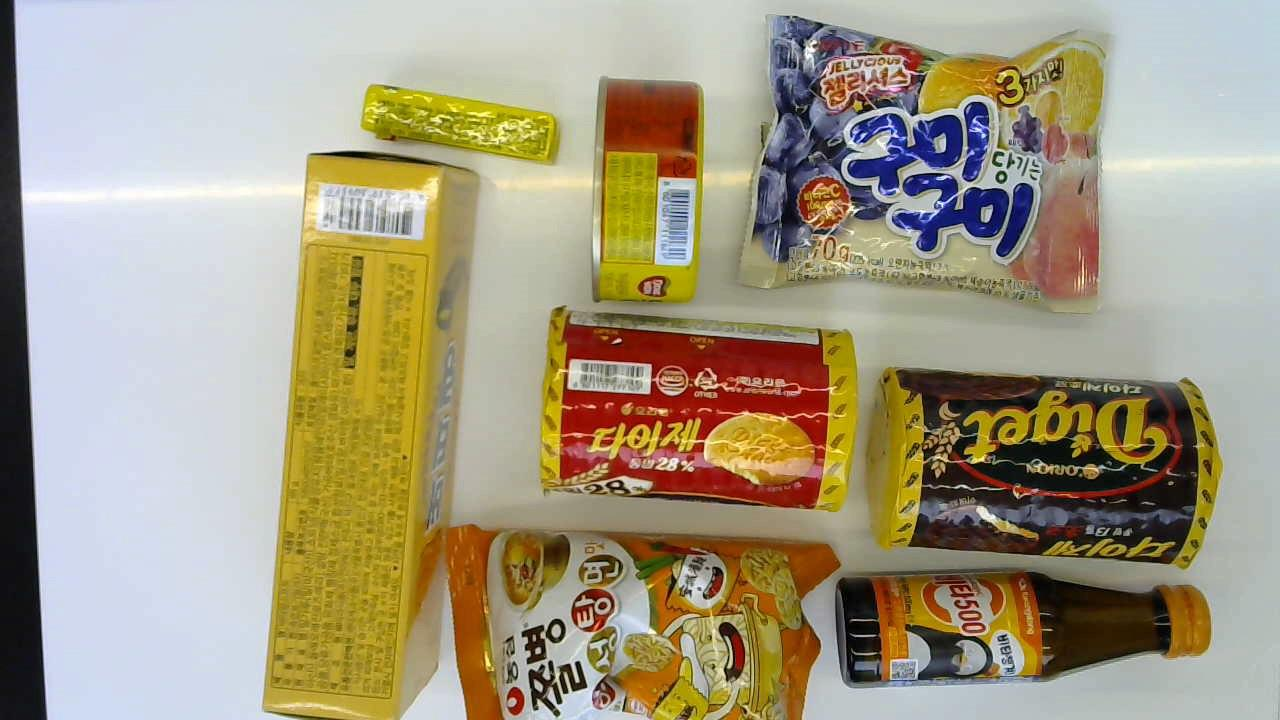buttering: (258, 149, 480, 720)
diget_choco: (866, 365, 1218, 569)
diget_ori: (540, 303, 854, 507)
gumi_gumi: (738, 11, 1101, 314)
jjolbyung_noodle: (446, 528, 836, 716)
juicyfresh: (359, 81, 558, 162)
tuna: (585, 71, 701, 305)
vita500: (834, 566, 1211, 688)
